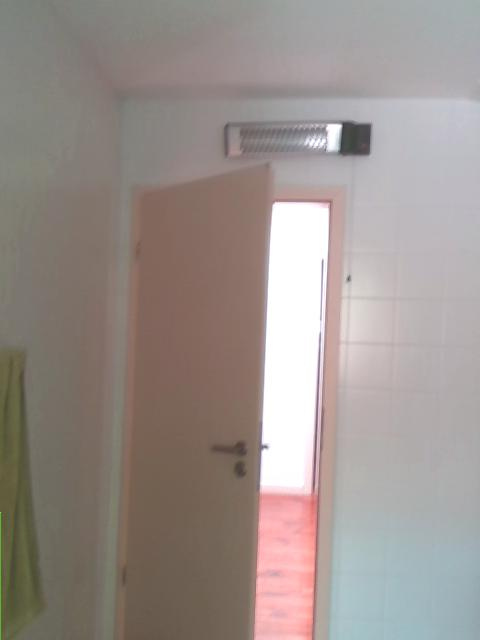semi_door: (112, 155, 346, 639)
